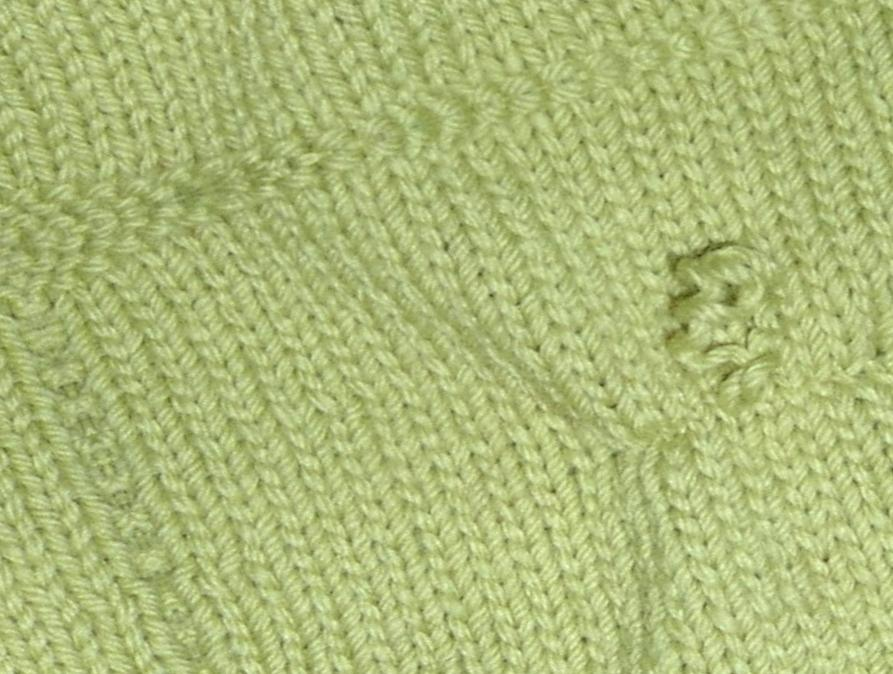knot: (661, 236, 784, 422)
